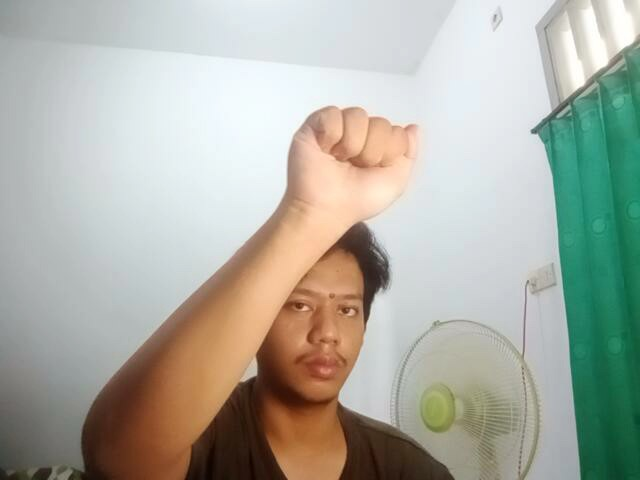A: (283, 96, 434, 225)
